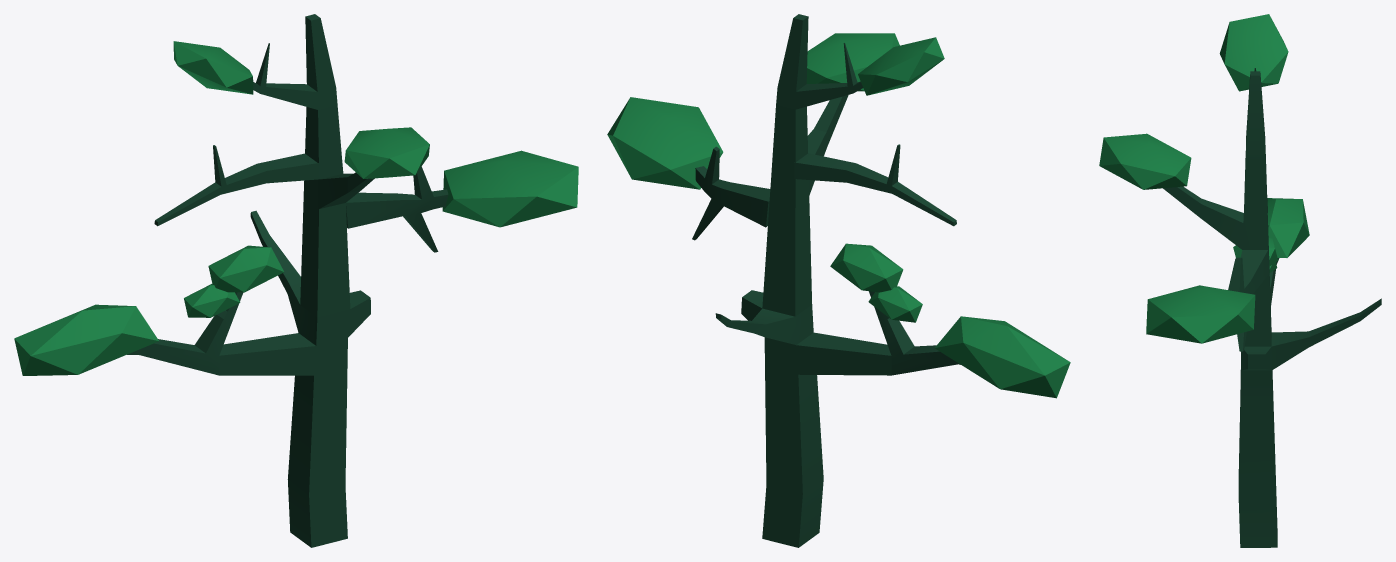
File: spring_tree_2.fbx
3 renders of one model, left to right at view 1: azimuth 30°, elevation 25°; view 2: azimuth 150°, elevation 25°; view 3: azimuth 270°, elevation 25°, orthographic. The views are drawn at different scales.
Visible parts, largest first — view 1: TREE.009, TREE.008, TREE.010, TREE.007, TREE.013, TREE.011, TREE.012; view 2: TREE.009, TREE.008, TREE.010, TREE.007, TREE.013, TREE.011, TREE.012; view 3: TREE.009, TREE.010, TREE.013, TREE.007, TREE.011, TREE.008.
Part boxes in pixels (x1,y1,x2,y2): TREE.009: (219,210,370,547); TREE.008: (14,245,283,375); TREE.010: (346,150,578,252); TREE.007: (300,105,361,317); TREE.013: (173,14,337,109); TREE.011: (344,127,429,192); TREE.012: (154,145,319,226); TREE.009: (715,290,891,547); TREE.008: (830,243,1070,398); TREE.010: (607,97,770,240); TREE.007: (762,105,826,316); TREE.013: (776,14,944,109); TREE.011: (806,33,899,146); TREE.012: (794,144,956,226); TREE.009: (1238,298,1381,547); TREE.010: (1146,250,1268,351); TREE.013: (1219,14,1288,160); TREE.007: (1200,154,1271,346); TREE.011: (1099,133,1201,217); TREE.008: (1233,198,1309,306).
Size of the model in its own units: 15.44 by 15.44 by 8.49.
